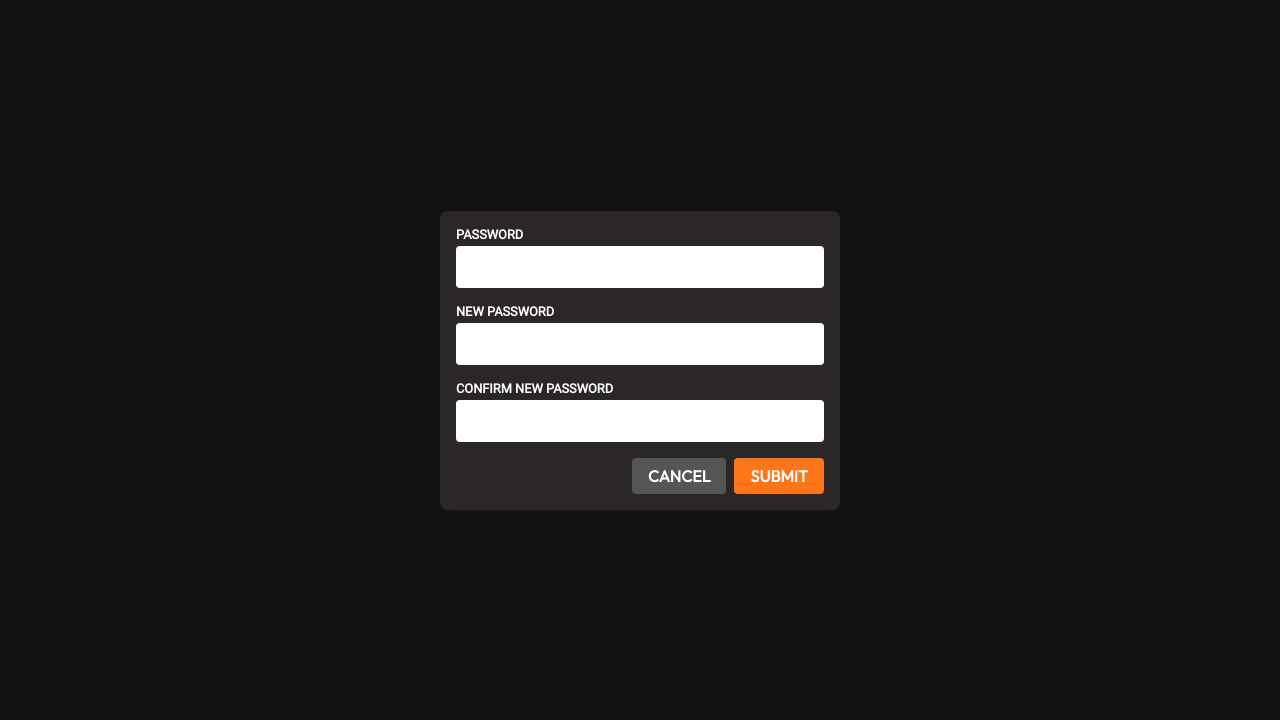
it: ChangePasswordForm › sets error if password confirmation does not match
This screenshot has width=1280, height=720.
Type "someoldpassword" into the password field labelled "PASSWORD".
click(640, 266); type("someoldpassword")  # box [456,246,824,288]
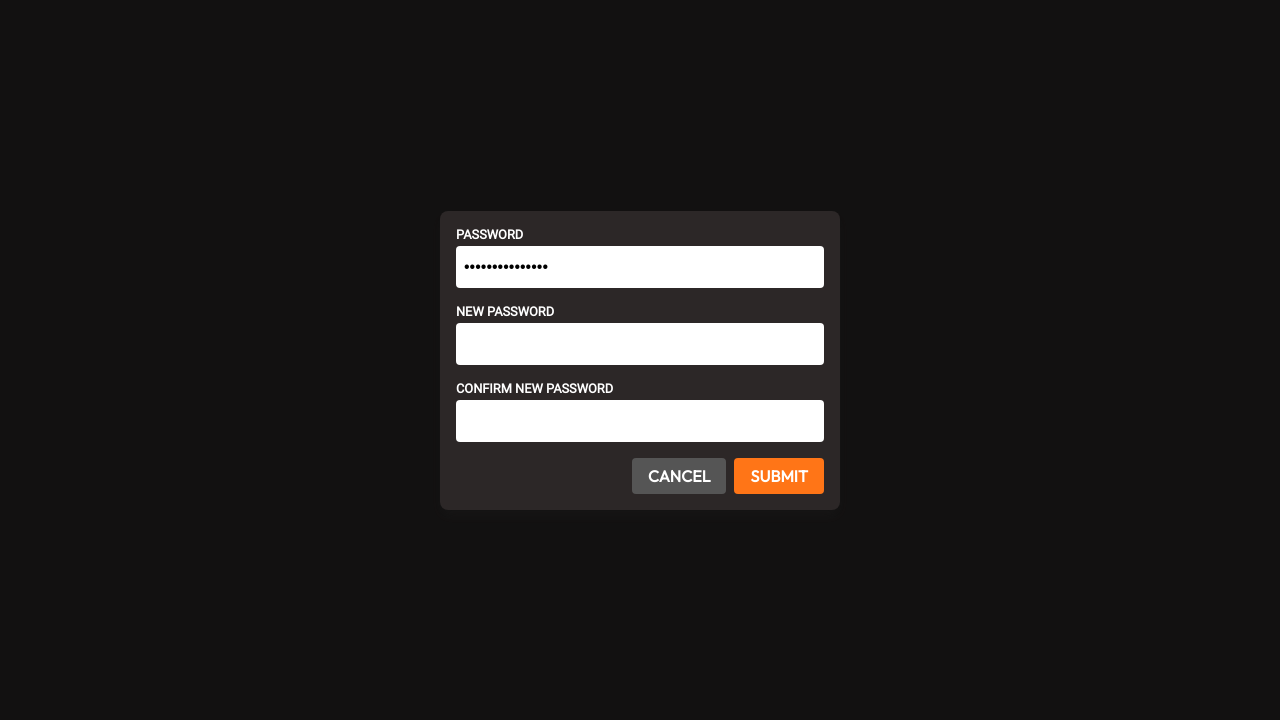
Type "somenewpassword" into the password field labelled "NEW PASSWORD".
click(640, 344); type("somenewpassword")  # box [456,322,824,364]
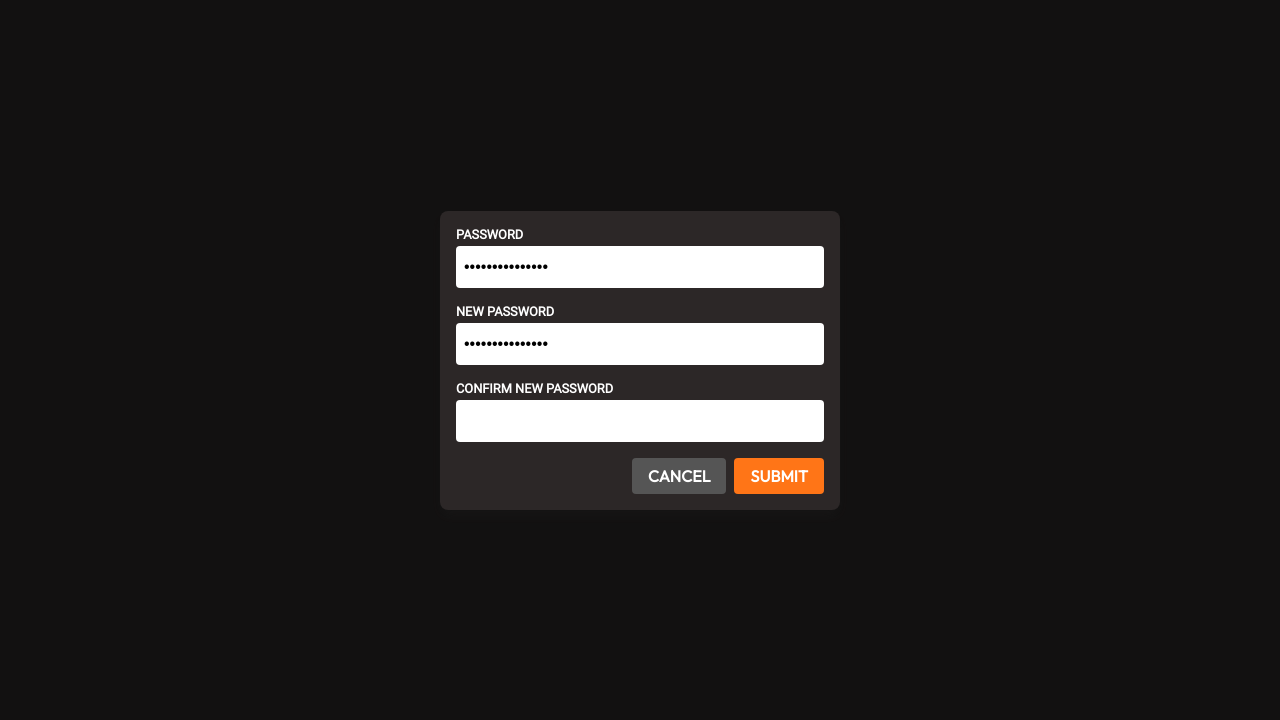
Type "someconfirmnewpassword" into the password field labelled "CONFIRM NEW PASSWORD".
click(640, 420); type("someconfirmnewpassword")  # box [456,400,824,442]
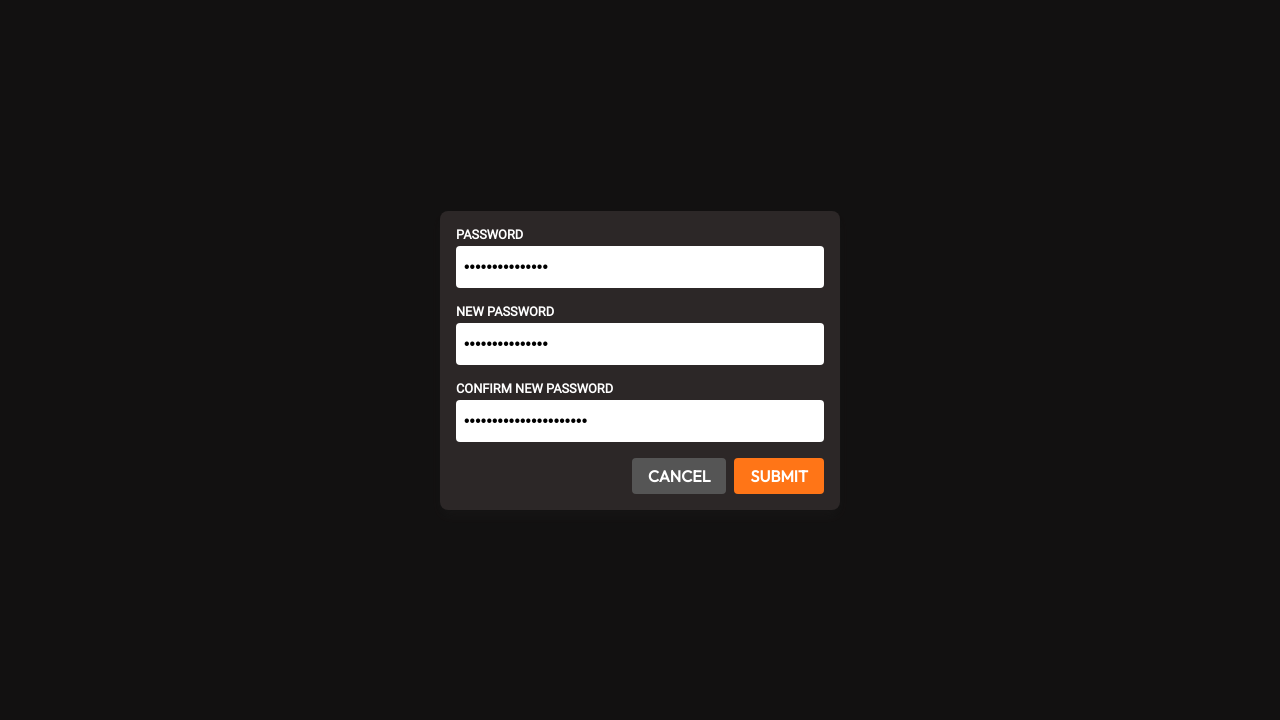
Click the button "SUBMIT".
click(779, 476)  # box [734,458,824,494]
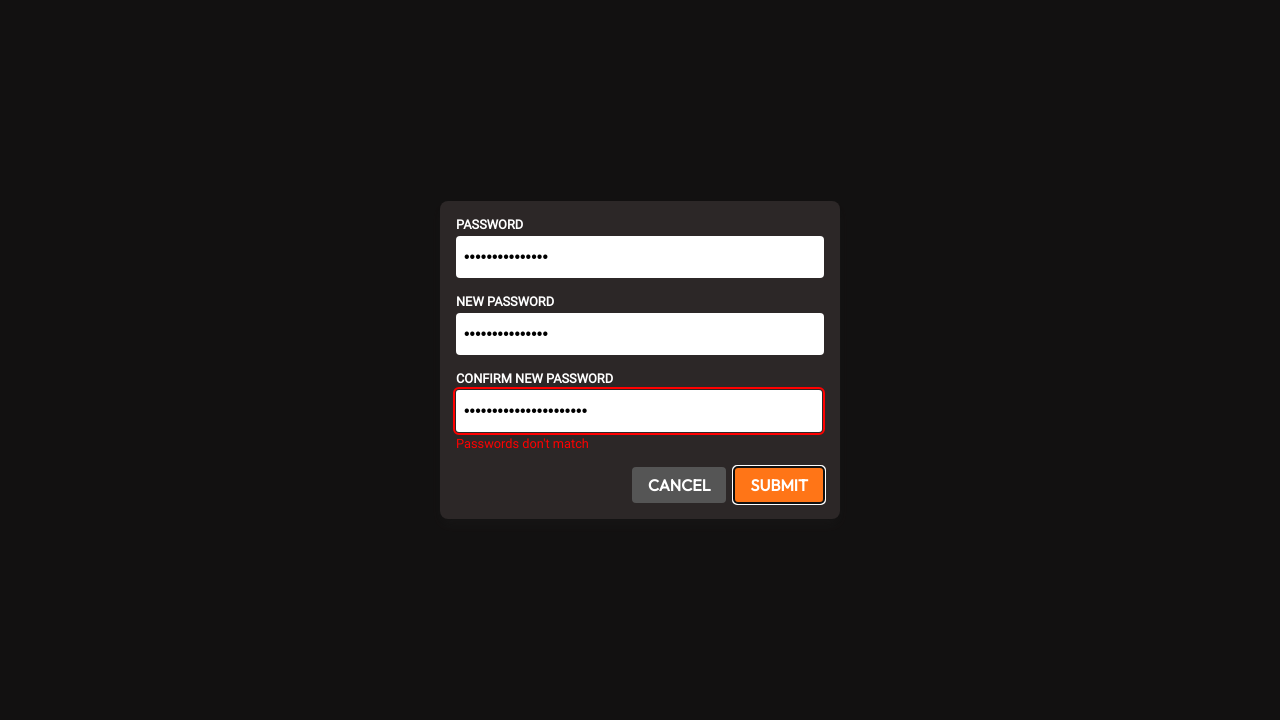
Result: the text "Passwords don't match" is shown at [456,436,589,451]
